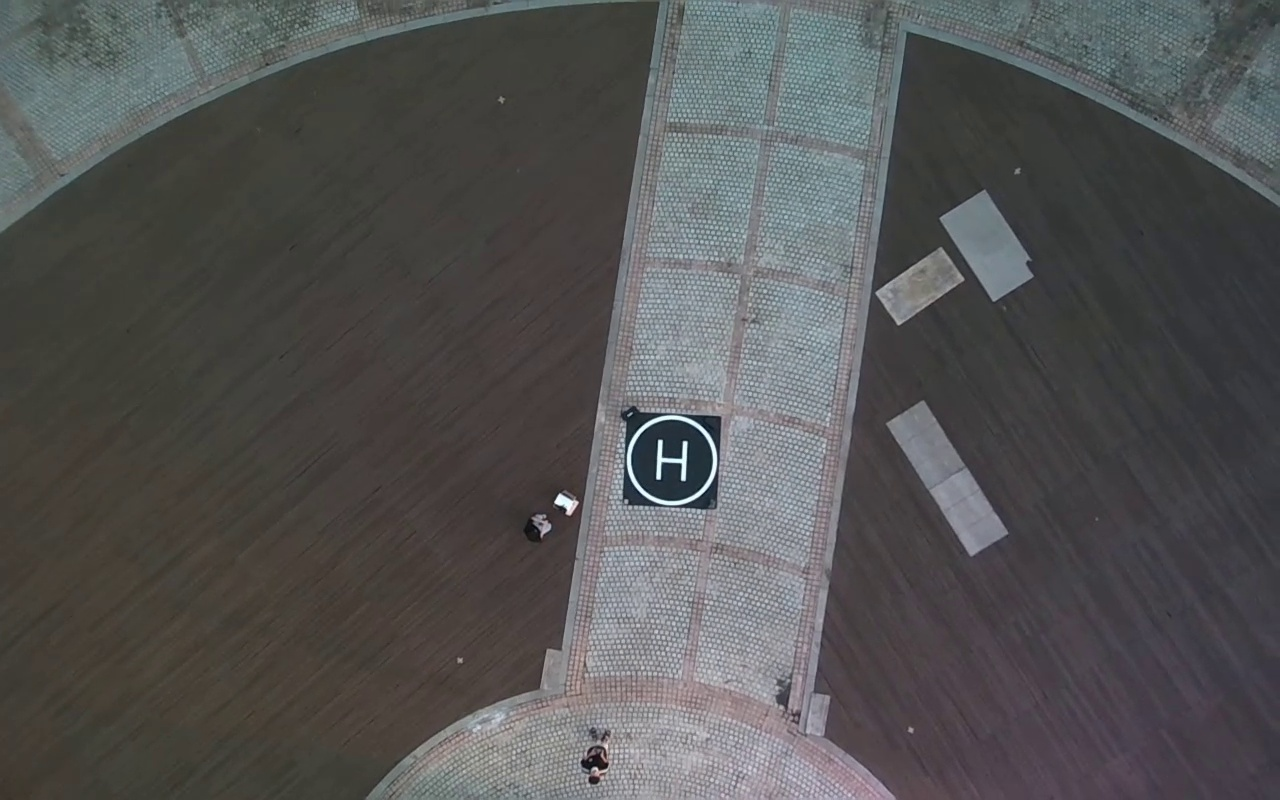H: (654, 438, 688, 482)
heliport: (625, 416, 719, 506)
